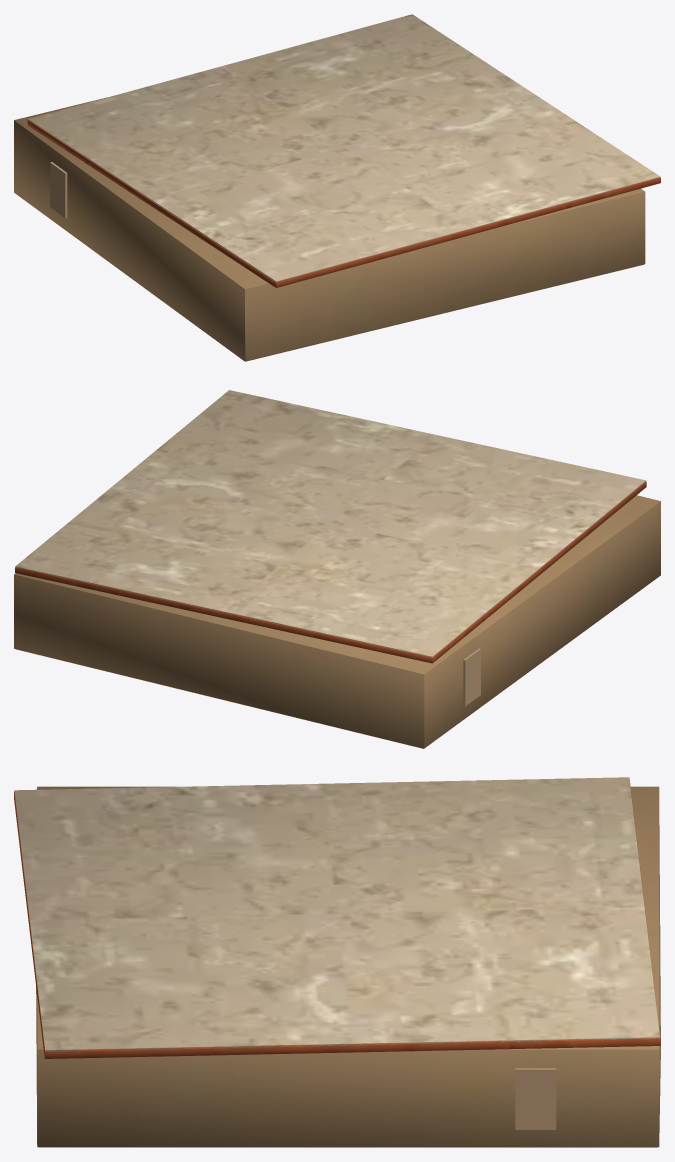
The model's file is PIS-CER-001_lod1.glb.
3 renders of one model, top to bottom at view 1: azimuth 30°, elevation 25°; view 2: azimuth 150°, elevation 25°; view 3: azimuth 270°, elevation 25°, orthographic. The views are drawn at different scales.
Parts seen in each view (by area): view 1: PIS-CER-001_face, PIS-CER-001_caixa, PIS-CER-001_corpo, PIS-CER-001_faixa; view 2: PIS-CER-001_face, PIS-CER-001_caixa, PIS-CER-001_corpo, PIS-CER-001_faixa; view 3: PIS-CER-001_face, PIS-CER-001_caixa, PIS-CER-001_corpo, PIS-CER-001_faixa.
Boxes of the visible parts, x1,y1,x2,y2 form: PIS-CER-001_face: [28, 14, 660, 281]; PIS-CER-001_caixa: [14, 97, 645, 361]; PIS-CER-001_corpo: [27, 120, 660, 287]; PIS-CER-001_faixa: [50, 162, 67, 218]; PIS-CER-001_face: [15, 390, 646, 657]; PIS-CER-001_caixa: [14, 495, 660, 748]; PIS-CER-001_corpo: [15, 481, 646, 663]; PIS-CER-001_faixa: [463, 648, 480, 706]; PIS-CER-001_face: [14, 777, 659, 1050]; PIS-CER-001_caixa: [36, 786, 660, 1147]; PIS-CER-001_corpo: [14, 779, 660, 1058]; PIS-CER-001_faixa: [515, 1068, 556, 1129].
Size of the model in its own units: 0.4766 by 0.089 by 0.4716.
Materials: 6 (4 with a texture image).
